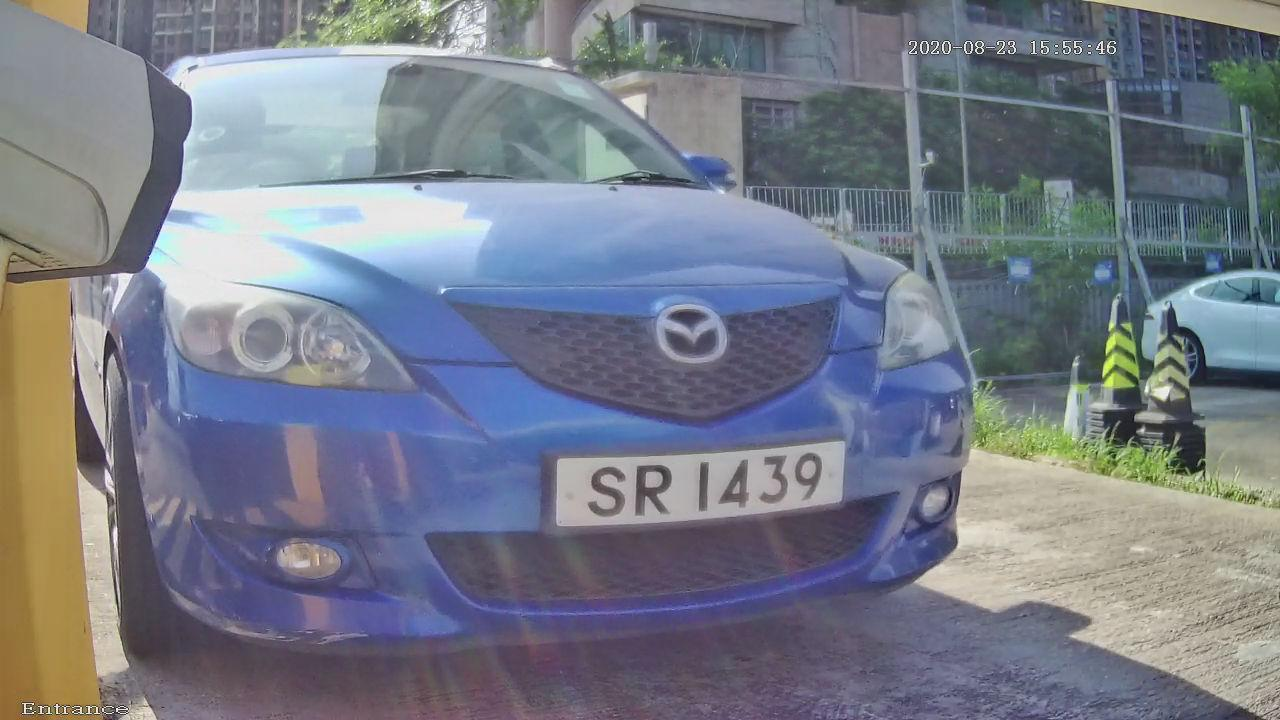Car: (63, 13, 1052, 711)
License Plate: (492, 381, 898, 575)
